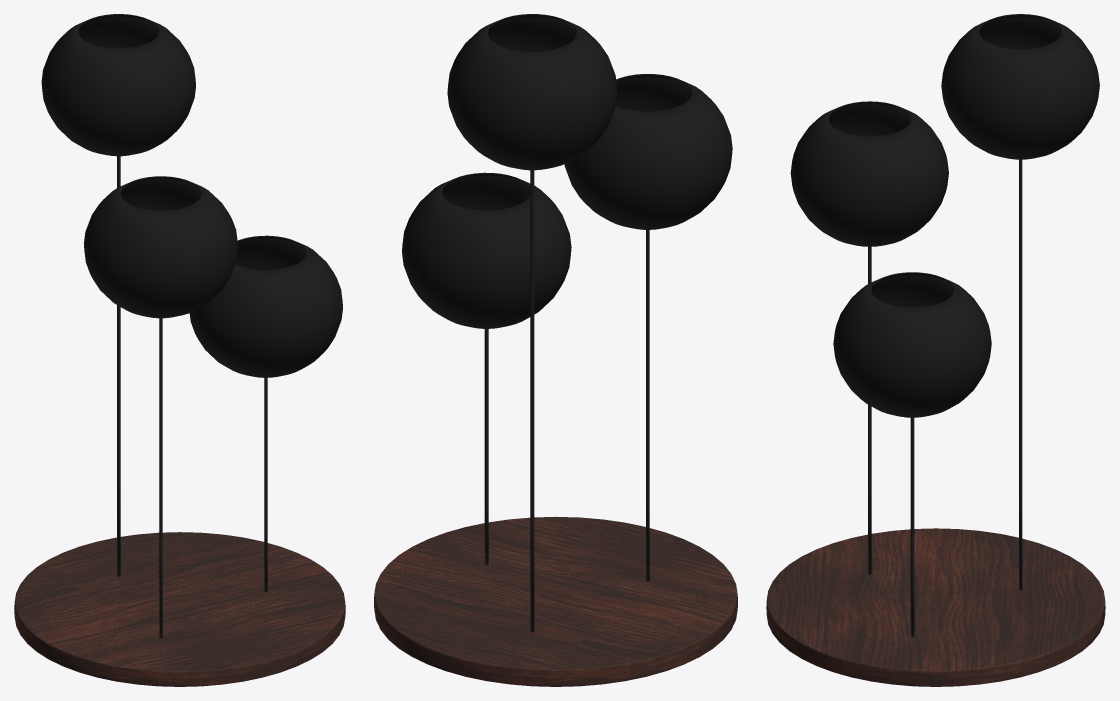
The model's file is DeckenLampe-AR-ceiling.glb.
The picture shows the model from 3 angles, left to right: view 1: azimuth 30°, elevation 25°; view 2: azimuth 150°, elevation 25°; view 3: azimuth 270°, elevation 25°; orthographic projection. The views are drawn at different scales.
Visible parts, largest first — view 1: Deckenaufhängung.001, Lampe unten.004, lampe mitte.004, lampe oben.004, lampe mitte.003, Lampe unten.003, lampe oben.003; view 2: Deckenaufhängung.001, Lampe unten.004, lampe oben.004, lampe mitte.004, Lampe unten.003, lampe mitte.003, lampe oben.003; view 3: Deckenaufhängung.001, Lampe unten.004, lampe oben.004, lampe mitte.004, Lampe unten.003, lampe oben.003, lampe mitte.003.
Boxes of the visible parts, bbox=[...] form: Deckenaufhängung.001: bbox=[14, 532, 345, 686]; Lampe unten.004: bbox=[41, 14, 195, 156]; lampe mitte.004: bbox=[84, 176, 237, 318]; lampe oben.004: bbox=[189, 235, 342, 377]; lampe mitte.003: bbox=[159, 318, 162, 638]; Lampe unten.003: bbox=[117, 156, 120, 576]; lampe oben.003: bbox=[264, 377, 267, 592]; Deckenaufhängung.001: bbox=[374, 517, 737, 686]; Lampe unten.004: bbox=[447, 14, 617, 170]; lampe oben.004: bbox=[402, 172, 571, 328]; lampe mitte.004: bbox=[564, 74, 732, 229]; Lampe unten.003: bbox=[530, 170, 534, 632]; lampe mitte.003: bbox=[646, 230, 649, 581]; lampe oben.003: bbox=[484, 329, 488, 564]; Deckenaufhängung.001: bbox=[766, 528, 1105, 686]; Lampe unten.004: bbox=[941, 14, 1099, 159]; lampe oben.004: bbox=[833, 272, 991, 417]; lampe mitte.004: bbox=[790, 101, 948, 246]; Lampe unten.003: bbox=[1019, 159, 1022, 590]; lampe oben.003: bbox=[910, 417, 914, 637]; lampe mitte.003: bbox=[868, 247, 871, 574].
Bounding box in the file's own units: 0.6687 × 1.25 × 0.6687.
4 materials, 1 textured.
